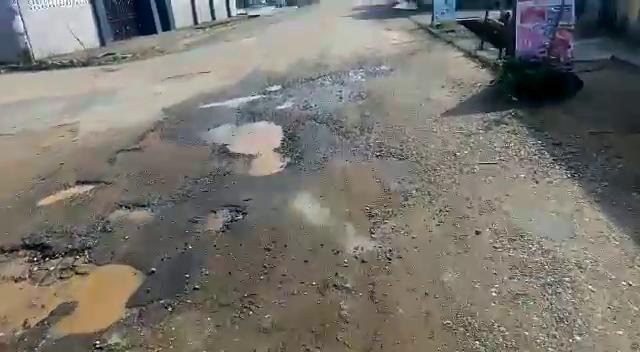pothole: (0, 239, 152, 351), (209, 119, 291, 176), (38, 176, 111, 206), (204, 204, 247, 235)
